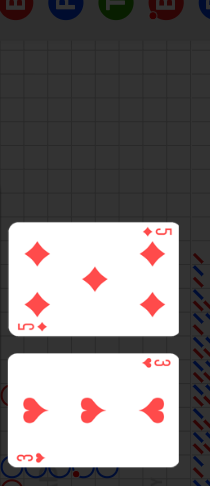3H: (141, 357, 172, 370)
5D: (141, 226, 174, 238)
